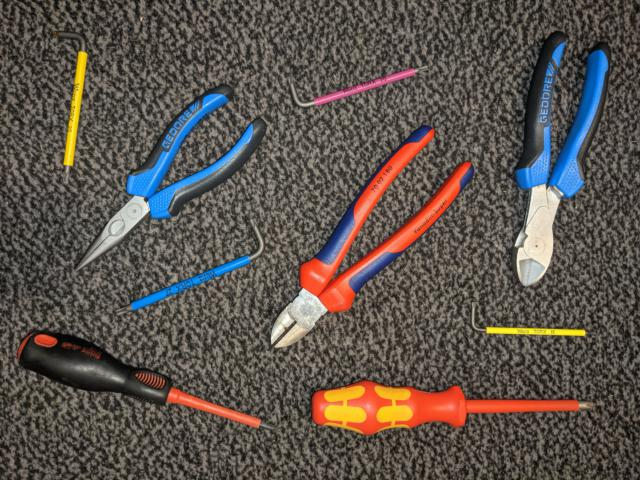Inbusschlüssel: (111, 214, 268, 324), (287, 63, 431, 111), (52, 29, 93, 187), (469, 297, 601, 341)
Schraubendreher: (13, 325, 284, 439), (302, 374, 605, 443)
Seitenschneider: (266, 122, 478, 354), (508, 26, 616, 292)
Zange: (68, 79, 270, 282)
